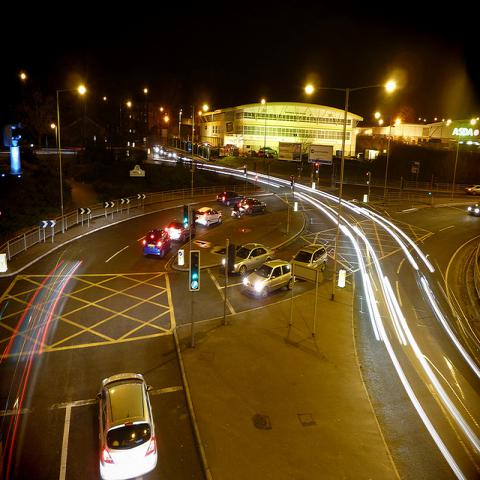car: (95, 372, 158, 480), (244, 259, 292, 299), (221, 243, 275, 275), (290, 242, 329, 271), (142, 229, 173, 257), (165, 219, 196, 243), (196, 208, 222, 228), (238, 198, 266, 215), (216, 192, 244, 206), (467, 198, 479, 219), (464, 183, 480, 195)
